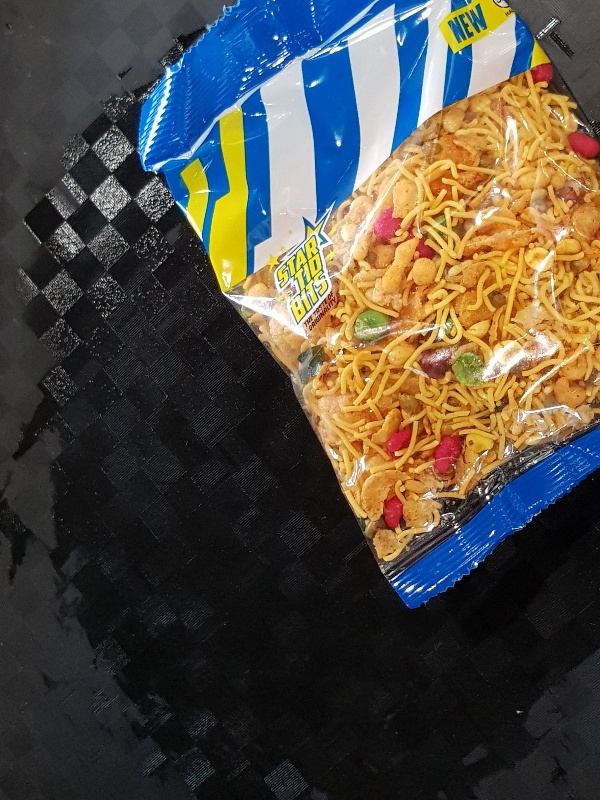Star Tidbits Mixer: (137, 1, 600, 609)
